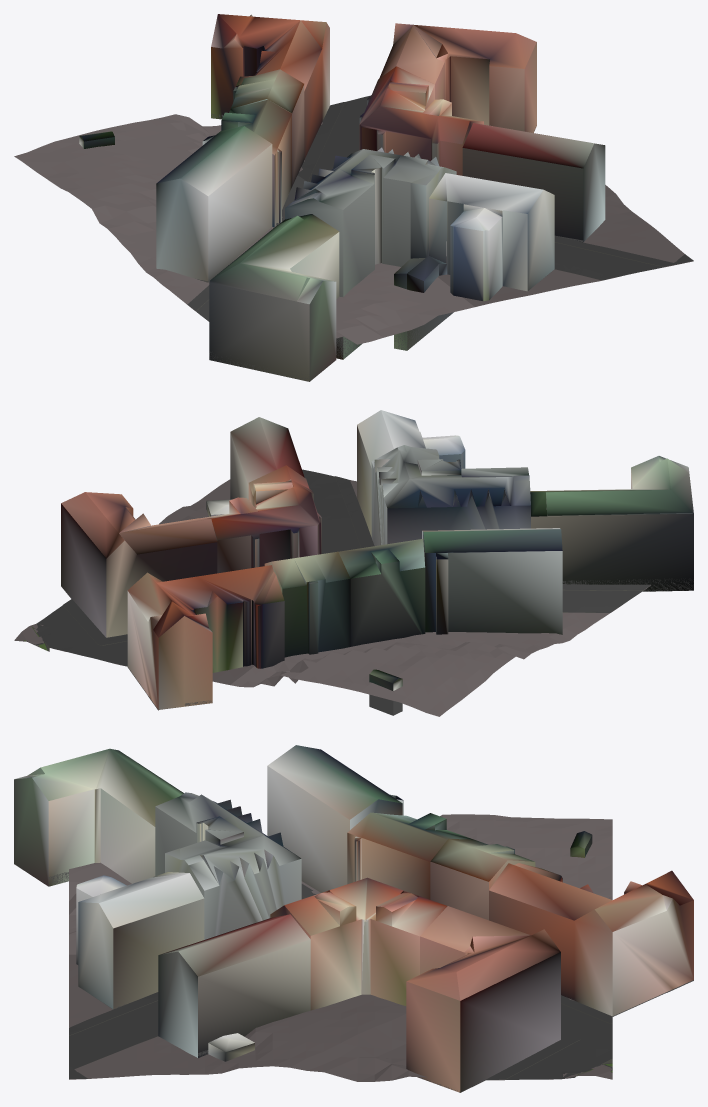
3 renders of one model, top to bottom at view 1: azimuth 30°, elevation 25°; view 2: azimuth 150°, elevation 25°; view 3: azimuth 270°, elevation 25°, orthographic. The views are drawn at different scales.
Parts seen in each view (by area): view 1: c_m11_m03, append:c_m11_m03; view 2: c_m11_m03, append:c_m11_m03; view 3: c_m11_m03, append:c_m11_m03.
Boxes of the visible parts, bbox=[...] form: c_m11_m03: bbox=[79, 14, 693, 381]; append:c_m11_m03: bbox=[14, 114, 474, 344]; c_m11_m03: bbox=[14, 410, 693, 715]; append:c_m11_m03: bbox=[230, 584, 650, 716]; c_m11_m03: bbox=[14, 745, 693, 1092]; append:c_m11_m03: bbox=[69, 814, 612, 954].
Bounding box in the file's own units: 144 × 45.18 × 160.
